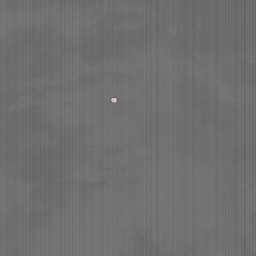Target: (109, 96, 119, 104)
